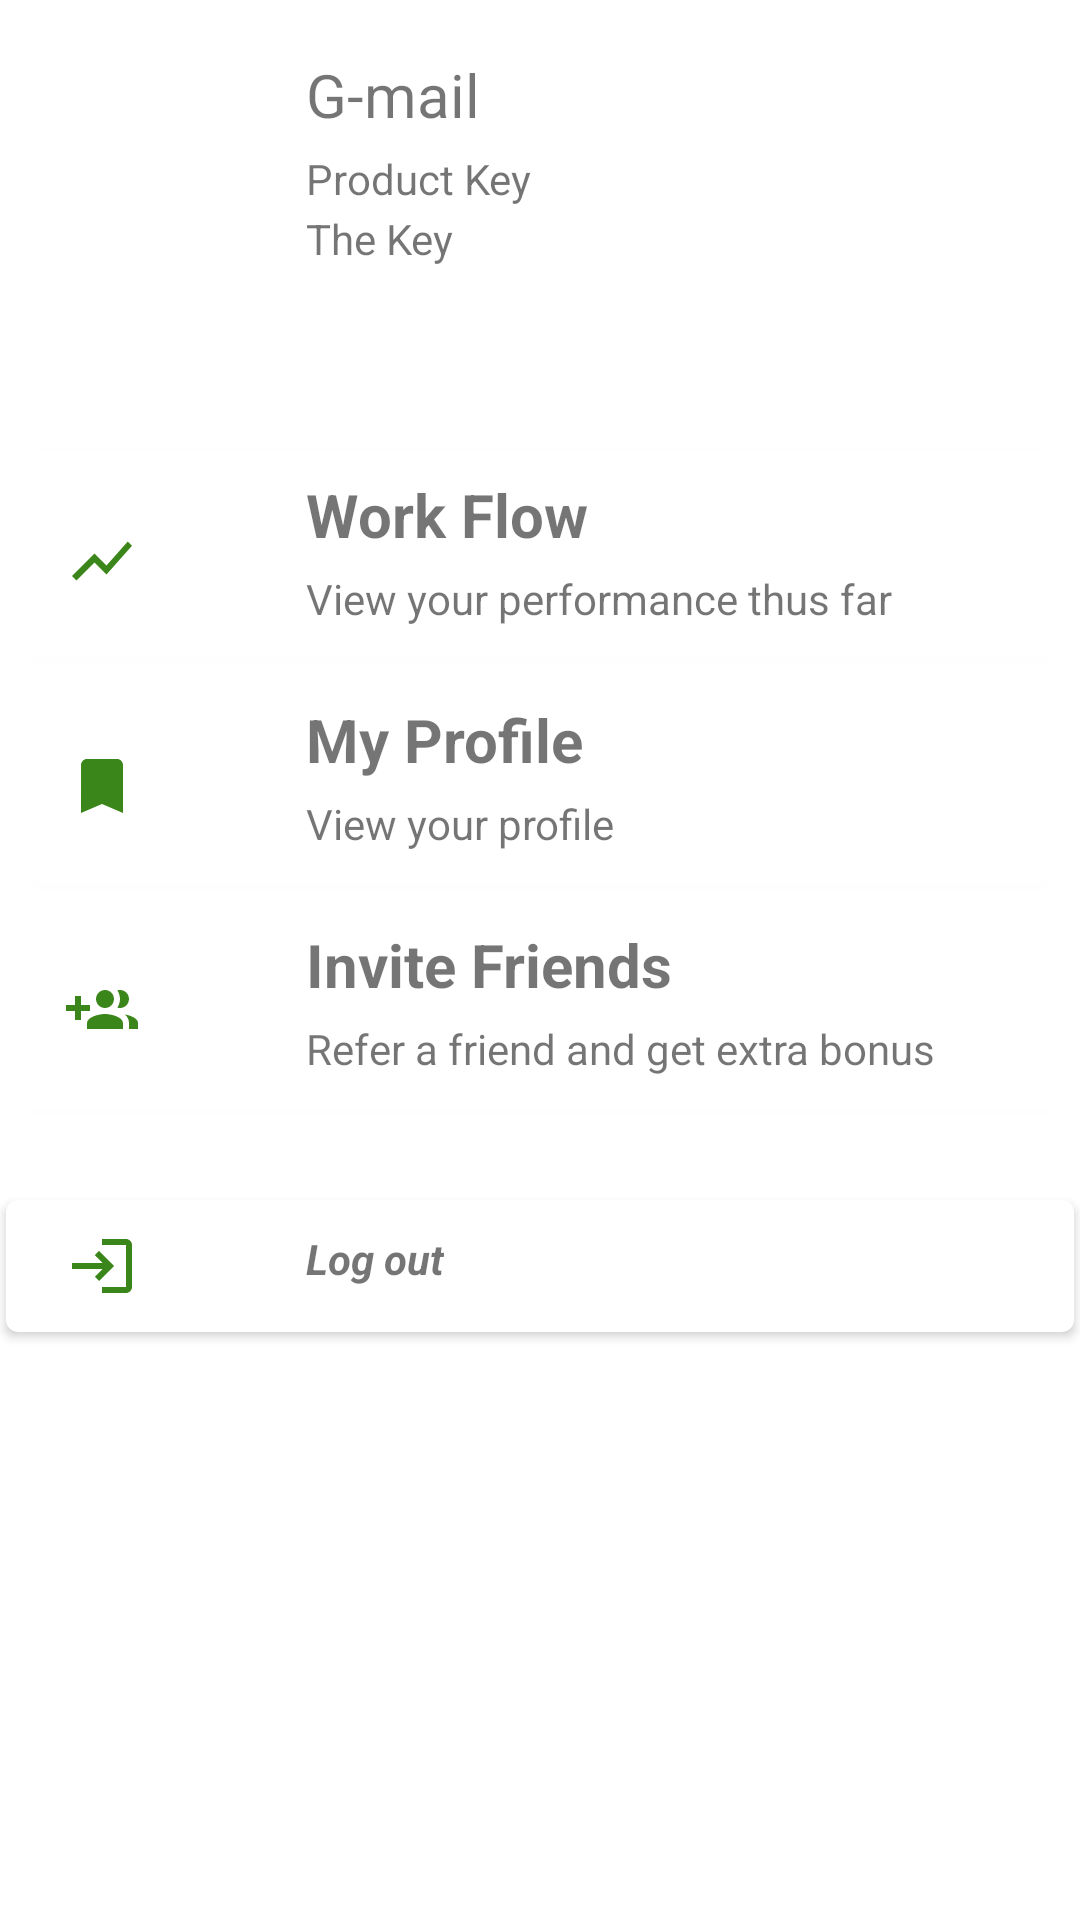

Where to tap for icons on this 1080 × 1920 app screen, as [x,y]:
bookmark: [102,786]
group add: [102,1009]
login: [102,1266]
show chart: [102,561]
